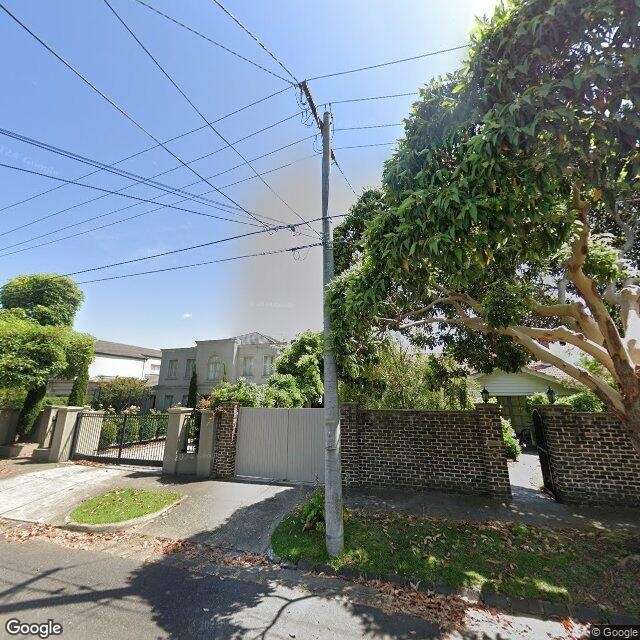crossarm: (301, 80, 335, 160)
timber-pole: (323, 112, 345, 556)
